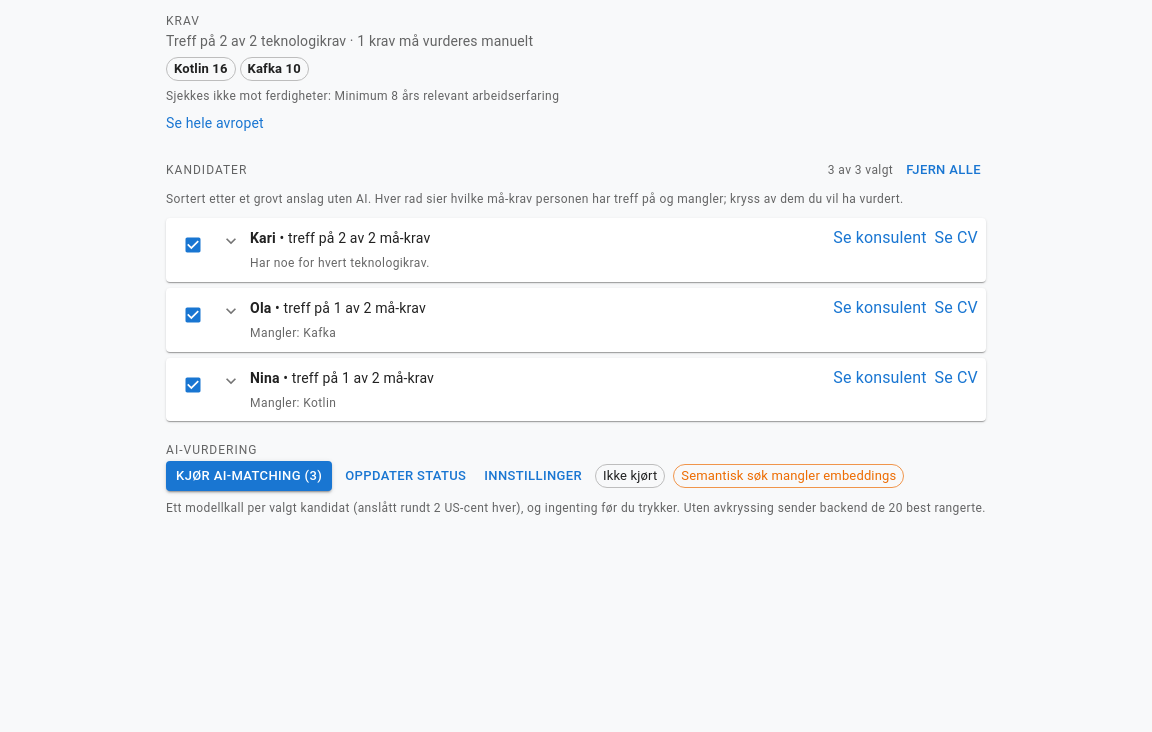
Test: RequestMatchPanel › renders decimal AI match scores without integer truncation
Check: the text "3 av 3 valgt" is shown, box left=828, top=160, right=893, bottom=180
Click the button "Kjør AI-matching (3)".
click(249, 476)  # box left=166, top=461, right=332, bottom=492
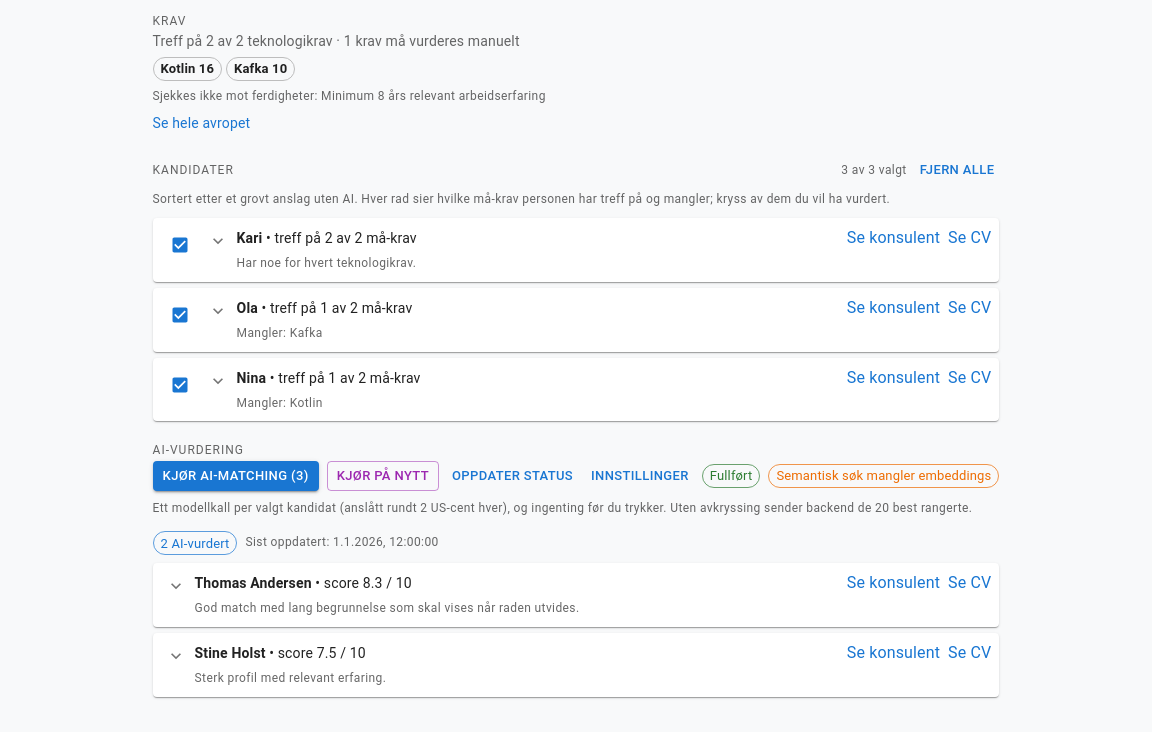
Check: the text "Thomas Andersen" is shown, box left=195, top=575, right=312, bottom=591
Check: the text "Thomas Andersen • score 8.3 / 10" is shown, box left=195, top=573, right=412, bottom=593
Check: the text "Stine Holst • score 7.5 / 10" is shown, box left=195, top=643, right=366, bottom=663
